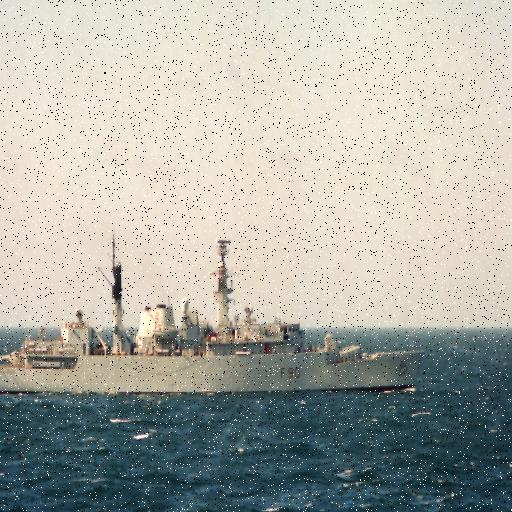Fragata: (1, 233, 431, 400)
